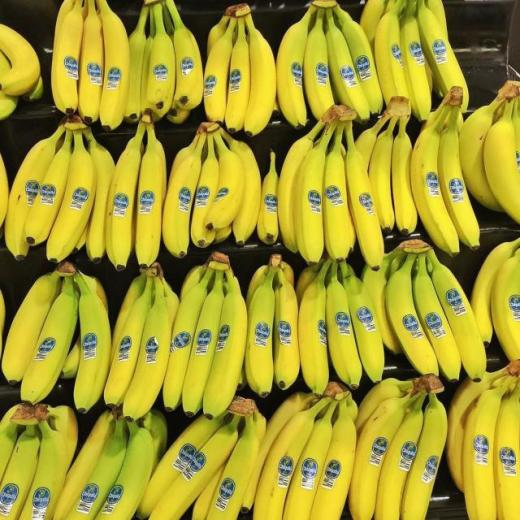Banana: (0, 0, 519, 519), (200, 269, 249, 422)
